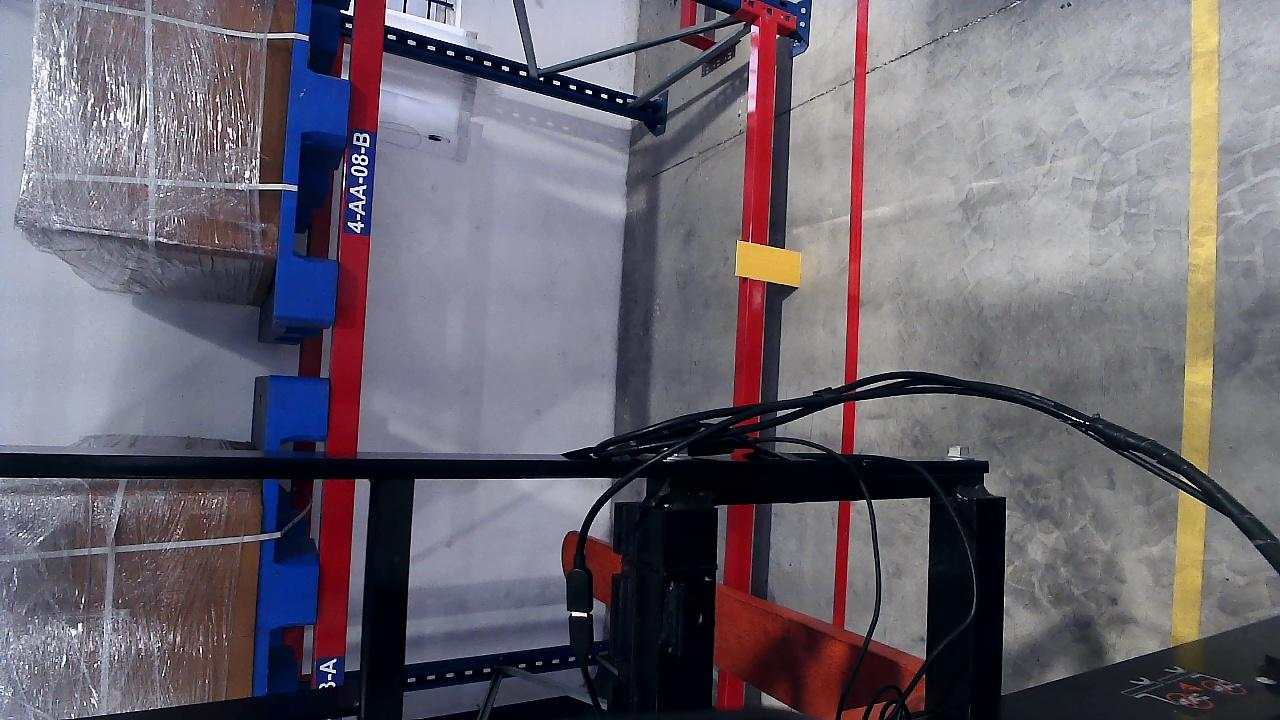h_rack: (322, 0, 392, 679), (735, 12, 780, 403)
orange_strip: (735, 241, 801, 287)
red_line: (843, 7, 868, 384)
small_pallet: (252, 372, 331, 693), (270, 0, 348, 321)
yellow_line: (1179, 3, 1221, 631)
